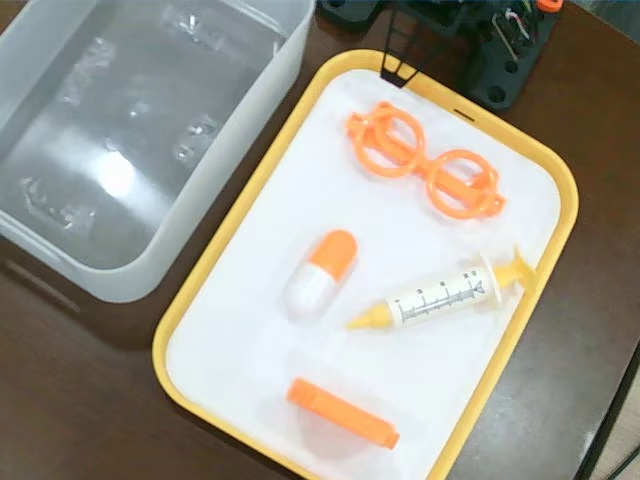pill: (283, 228, 354, 322)
syringe: (347, 248, 537, 334)
